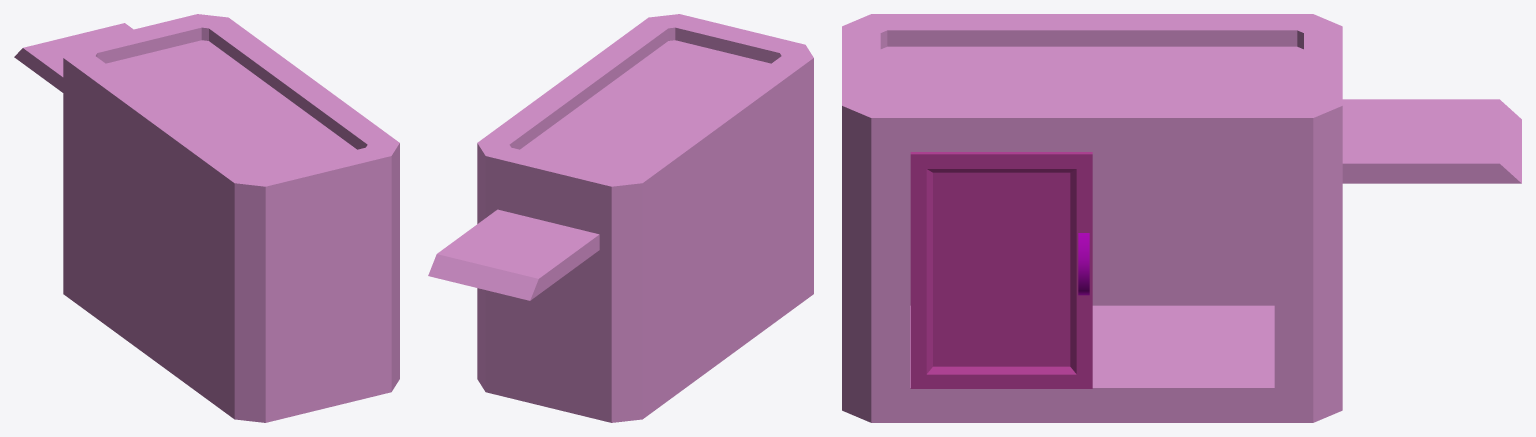
Rendered from Ob_Desk 3.FBX.
3 views of the same model, side by side, from view 1: azimuth 30°, elevation 25°; view 2: azimuth 150°, elevation 25°; view 3: azimuth 270°, elevation 25° (orthographic). The views are drawn at different scales.
Visible parts, largest first — view 1: Desk 3; view 2: Desk 3; view 3: Desk 3, Desk 3 Door, Desk 3 Door Handle.
Boxes of the visible parts, left/top/right/bottom form: Desk 3: left=14, top=14, right=399, bottom=422; Desk 3: left=428, top=14, right=813, bottom=422; Desk 3: left=842, top=14, right=1521, bottom=422; Desk 3 Door: left=910, top=152, right=1092, bottom=388; Desk 3 Door Handle: left=1078, top=233, right=1089, bottom=295.
Bounding box in the file's own units: 93.45 × 114 × 231.
